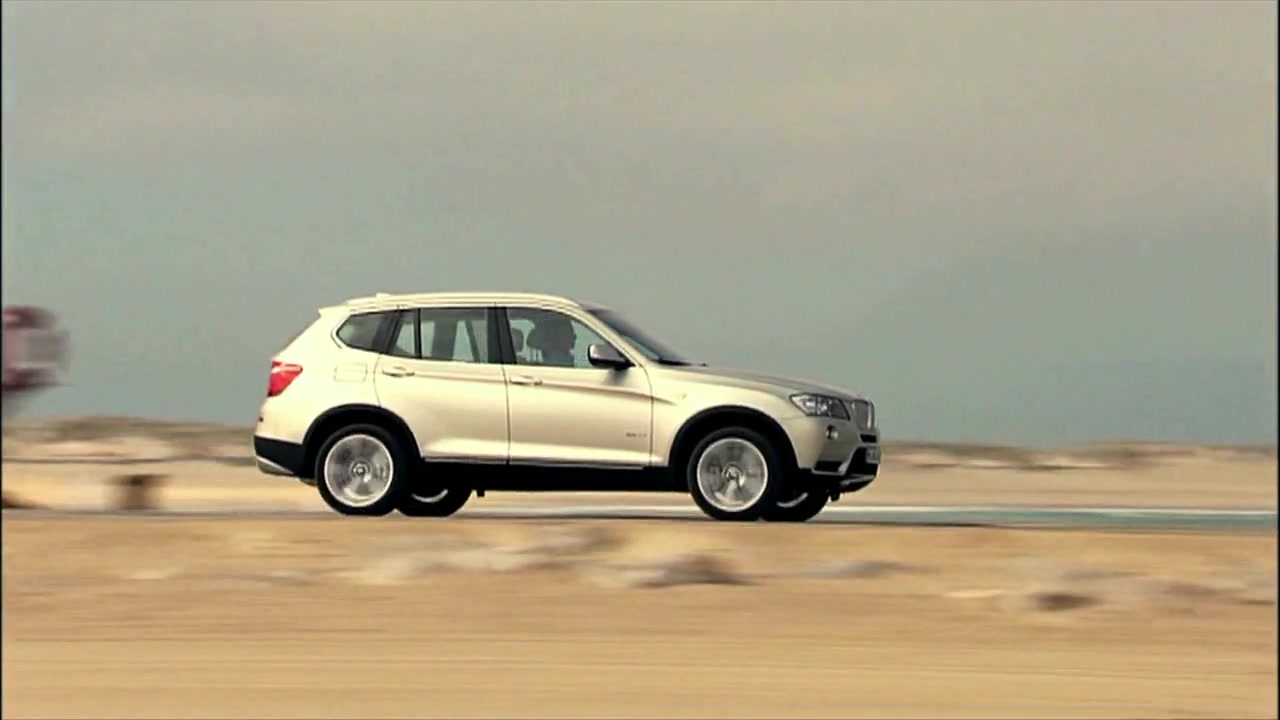car: (249, 283, 883, 524)
